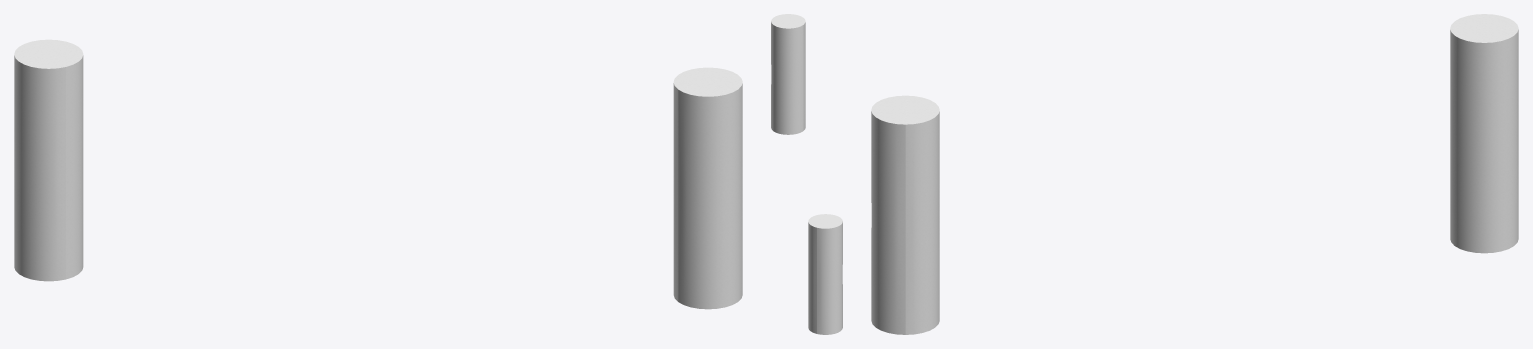
3 views of the same model, side by side, from view 1: azimuth 30°, elevation 25°; view 2: azimuth 150°, elevation 25°; view 3: azimuth 270°, elevation 25° (orthographic). The views are drawn at different scales.
Size of the model in its own units: 0.4625 by 0.32 by 0.6137.
Materials: 1 (1 with a texture image).
